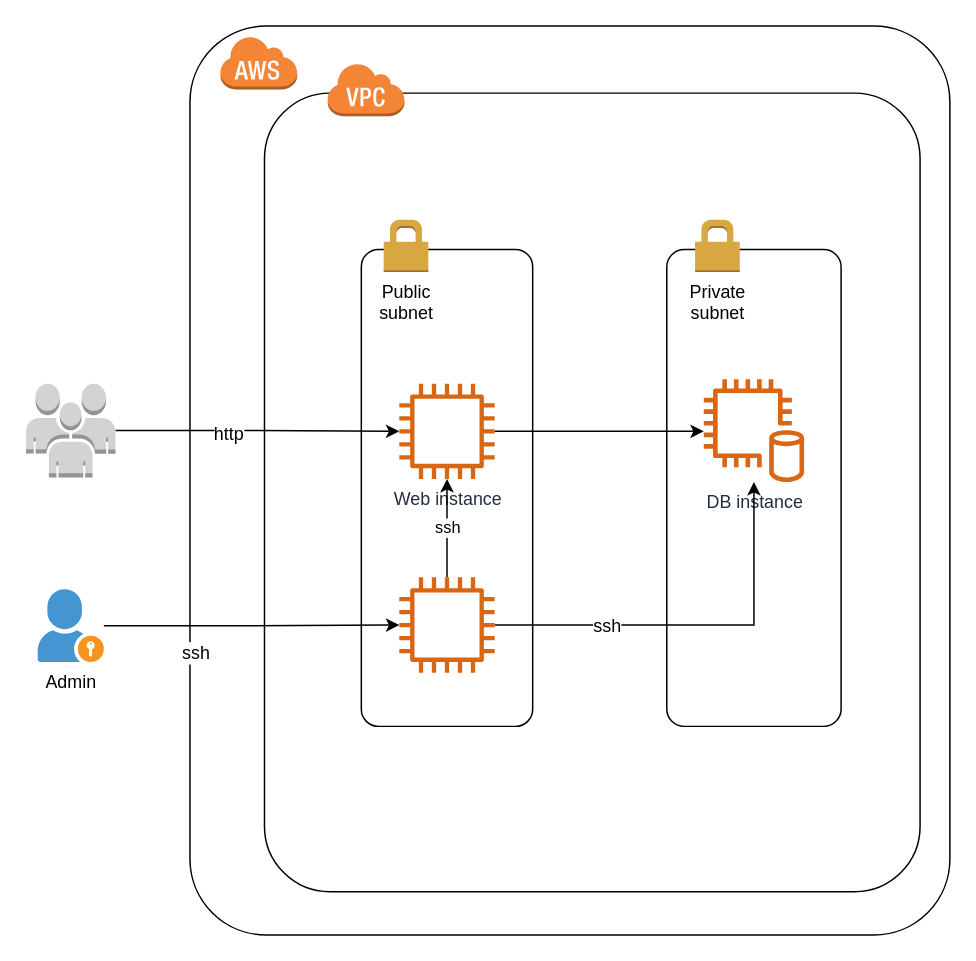
Some shapes in this 976 by 961 pixel diagram are drawn without their labels. The shapes that lost their labels are listed below. From the top down, each one's box as (x1, y1, x2, y2) in pixels, then its label:
(25, 382, 115, 478): Internet
(399, 577, 494, 672): Bastion
